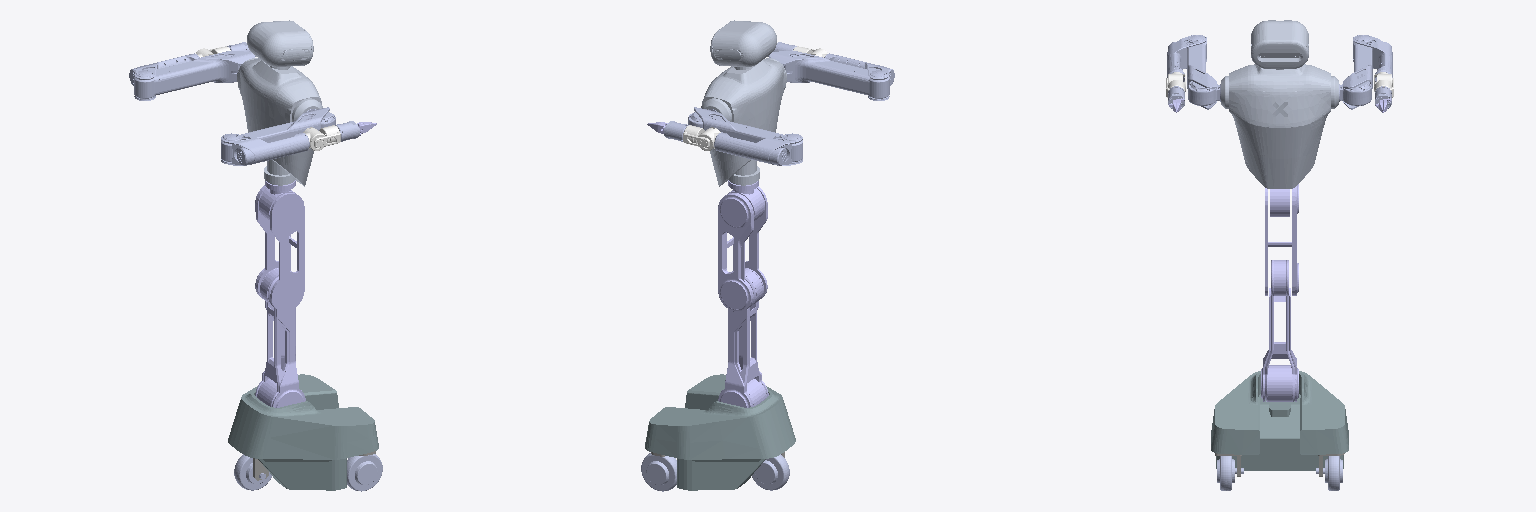
--- What the picture shows (computed from the rendered views, not written in the file) ---
Views: 3 orthographic renders of the robot side by side, from view 1: azimuth 30°, elevation 25°; view 2: azimuth 150°, elevation 25°; view 3: azimuth 270°, elevation 25°.
Robot: mobiman/urdf/R1 — 27 links, 26 joints (19 revolute, 3 continuous, 4 prismatic); root link base_link; default pose: every joint at zero.
Visible links, largest first — view 1: base_link, torso_link4, torso_link2, torso_link1, left_arm_link2, right_arm_link3, right_arm_link2, wheel_link2, wheel_link3, left_arm_link3, torso_link3; view 2: base_link, torso_link4, torso_link2, torso_link1, right_arm_link2, left_arm_link3, left_arm_link2, wheel_link1, wheel_link3, right_arm_link3, torso_link3; view 3: torso_link4, base_link, torso_link1, torso_link2, right_arm_link2, left_arm_link2, right_arm_link3, left_arm_link3, left_arm_link1, right_arm_link1, wheel_link1, wheel_link2 (+1 smaller).
Link boxes in pixels (x1,y1,x2,y2): base_link: (228,374,378,490); torso_link4: (237,20,322,186); torso_link2: (255,185,304,311); torso_link1: (255,268,305,407); left_arm_link2: (134,51,255,98); right_arm_link3: (221,132,309,165); right_arm_link2: (221,107,329,161); wheel_link2: (347,454,382,491); wheel_link3: (234,454,271,490); left_arm_link3: (129,53,199,100); torso_link3: (259,180,295,220); base_link: (645,374,795,490); torso_link4: (701,20,786,186); torso_link2: (718,186,767,311); torso_link1: (718,268,768,407); right_arm_link2: (768,51,889,98); left_arm_link3: (714,132,802,165); left_arm_link2: (694,107,802,161); wheel_link1: (641,453,676,491); wheel_link3: (752,454,789,490); right_arm_link3: (824,53,894,100); torso_link3: (728,180,764,220); torso_link4: (1221,20,1338,188); base_link: (1211,371,1348,470); torso_link1: (1261,260,1298,401); torso_link2: (1265,184,1298,295); right_arm_link2: (1187,41,1216,109); left_arm_link2: (1343,41,1372,109); right_arm_link3: (1167,35,1206,81); left_arm_link3: (1353,35,1392,81); left_arm_link1: (1339,82,1371,106); right_arm_link1: (1188,82,1220,105); wheel_link1: (1316,456,1342,490); wheel_link2: (1217,456,1243,490).
Size in the robot's own frame: 0.6614 by 0.7839 by 1.66 metres.
27 mesh visuals loaded from 27 distinct referenced files (27 binary STL).

robot.urdf — mobiman/urdf/R1:
<?xml version="1.0" encoding="utf-8"?>
<!-- This URDF was automatically created by SolidWorks to URDF Exporter! Originally created by Stephen Brawner ([email redacted]) 
     Commit Version: 1.6.0-4-g7f85cfe  Build Version: 1.6.7995.38578
     For more information, please see http://wiki.ros.org/sw_urdf_exporter -->
<robot
  name="mobiman/urdf/R1">
  <link
    name="base_link">
    <inertial>
      <origin
        xyz="0.00067851 4.1152E-07 0.12993"
        rpy="0 0 0" />
      <mass
        value="28.1" />
      <inertia
        ixx="0.41116"
        ixy="6.0087E-08"
        ixz="0.00057578"
        iyy="0.27395"
        iyz="-7.2731E-08"
        izz="0.50093" />
    </inertial>
    <visual>
      <origin
        xyz="0 0 0"
        rpy="0 0 0" />
      <geometry>
        <mesh
          filename="package://mobiman/urdf/R1/meshes/base_link.STL" />
      </geometry>
      <material
        name="">
        <color
          rgba="0.59608 0.66667 0.68627 1" />
      </material>
    </visual>
    <collision>
      <origin
        xyz="0 0 0"
        rpy="0 0 0" />
      <geometry>
        <mesh
          filename="package://mobiman/urdf/R1/meshes/base_link.STL" />
      </geometry>
    </collision>
  </link>
  <link
    name="servo_link1">
    <inertial>
      <origin
        xyz="-0.00031065 -0.022512 -0.030846"
        rpy="0 0 0" />
      <mass
        value="1" />
      <inertia
        ixx="0.00022554"
        ixy="2.4928E-06"
        ixz="8.1645E-07"
        iyy="0.00016547"
        iyz="-6.6947E-05"
        izz="0.00014555" />
    </inertial>
    <visual>
      <origin
        xyz="0 0 0"
        rpy="0 0 0" />
      <geometry>
        <mesh
          filename="package://mobiman/urdf/R1/meshes/servo_link1.STL" />
      </geometry>
      <material
        name="">
        <color
          rgba="0.69412 0.69412 0.69412 1" />
      </material>
    </visual>
    <collision>
      <origin
        xyz="0 0 0"
        rpy="0 0 0" />
      <geometry>
        <mesh
          filename="package://mobiman/urdf/R1/meshes/servo_link1.STL" />
      </geometry>
    </collision>
  </link>
  <joint
    name="servo_axis1"
    type="revolute">
    <origin
      xyz="0.15169 0.185 0.121"
      rpy="0 0 0" />
    <parent
      link="base_link" />
    <child
      link="servo_link1" />
    <axis
      xyz="0 0 1" />
    <limit
      lower="-1.6581"
      upper="1.6581"
      effort="44"
      velocity="3.1416" />
  </joint>
  <link
    name="wheel_link1">
    <inertial>
      <origin
        xyz="6.5501E-08 4.1927E-07 -0.032644"
        rpy="0 0 0" />
      <mass
        value="2.2" />
      <inertia
        ixx="0.0008746"
        ixy="-5.1589E-11"
        ixz="-6.3041E-10"
        iyy="0.00087462"
        iyz="5.5928E-10"
        izz="0.0014051" />
    </inertial>
    <visual>
      <origin
        xyz="0 0 0"
        rpy="0 0 0" />
      <geometry>
        <mesh
          filename="package://mobiman/urdf/R1/meshes/wheel_link1.STL" />
      </geometry>
      <material
        name="">
        <color
          rgba="0.79216 0.81961 0.93333 1" />
      </material>
    </visual>
    <collision>
      <origin
        xyz="0 0 0"
        rpy="0 0 0" />
      <geometry>
        <mesh
          filename="package://mobiman/urdf/R1/meshes/wheel_link1.STL" />
      </geometry>
    </collision>
  </link>
  <joint
    name="wheel_axis1"
    type="continuous">
    <origin
      xyz="0 0.032 -0.0905"
      rpy="-1.5708 0 0" />
    <parent
      link="servo_link1" />
    <child
      link="wheel_link1" />
    <axis
      xyz="0 0 1" />
  </joint>
  <link
    name="servo_link2">
    <inertial>
      <origin
        xyz="0.00031065 0.022512 -0.030846"
        rpy="0 0 0" />
      <mass
        value="1" />
      <inertia
        ixx="0.00022554"
        ixy="2.4928E-06"
        ixz="-8.1645E-07"
        iyy="0.00016547"
        iyz="6.6947E-05"
        izz="0.00014555" />
    </inertial>
    <visual>
      <origin
        xyz="0 0 0"
        rpy="0 0 0" />
      <geometry>
        <mesh
          filename="package://mobiman/urdf/R1/meshes/servo_link2.STL" />
      </geometry>
      <material
        name="">
        <color
          rgba="0.69412 0.69412 0.69412 1" />
      </material>
    </visual>
    <collision>
      <origin
        xyz="0 0 0"
        rpy="0 0 0" />
      <geometry>
        <mesh
          filename="package://mobiman/urdf/R1/meshes/servo_link2.STL" />
      </geometry>
    </collision>
  </link>
  <joint
    name="servo_axis2"
    type="revolute">
    <origin
      xyz="0.15169 -0.185 0.121"
      rpy="0 0 0" />
    <parent
      link="base_link" />
    <child
      link="servo_link2" />
    <axis
      xyz="0 0 1" />
    <limit
      lower="-1.6581"
      upper="1.6581"
      effort="44"
      velocity="3.1416" />
  </joint>
  <link
    name="wheel_link2">
    <inertial>
      <origin
        xyz="-6.5501E-08 4.1927E-07 0.032644"
        rpy="0 0 0" />
      <mass
        value="2.2" />
      <inertia
        ixx="0.0008746"
        ixy="5.1589E-11"
        ixz="-6.3041E-10"
        iyy="0.00087462"
        iyz="-5.5928E-10"
        izz="0.0014051" />
    </inertial>
    <visual>
      <origin
        xyz="0 0 0"
        rpy="0 0 0" />
      <geometry>
        <mesh
          filename="package://mobiman/urdf/R1/meshes/wheel_link2.STL" />
      </geometry>
      <material
        name="">
        <color
          rgba="0.79216 0.81961 0.93333 1" />
      </material>
    </visual>
    <collision>
      <origin
        xyz="0 0 0"
        rpy="0 0 0" />
      <geometry>
        <mesh
          filename="package://mobiman/urdf/R1/meshes/wheel_link2.STL" />
      </geometry>
    </collision>
  </link>
  <joint
    name="wheel_axis2"
    type="continuous">
    <origin
      xyz="0 -0.032 -0.0905"
      rpy="-1.5708 0 0" />
    <parent
      link="servo_link2" />
    <child
      link="wheel_link2" />
    <axis
      xyz="0 0 1" />
  </joint>
  <link
    name="servo_link3">
    <inertial>
      <origin
        xyz="-0.00031065 -0.022512 -0.030846"
        rpy="0 0 0" />
      <mass
        value="1" />
      <inertia
        ixx="0.00022554"
        ixy="2.4928E-06"
        ixz="8.1645E-07"
        iyy="0.00016547"
        iyz="-6.6947E-05"
        izz="0.00014555" />
    </inertial>
    <visual>
      <origin
        xyz="0 0 0"
        rpy="0 0 0" />
      <geometry>
        <mesh
          filename="package://mobiman/urdf/R1/meshes/servo_link3.STL" />
      </geometry>
      <material
        name="">
        <color
          rgba="0.69412 0.69412 0.69412 1" />
      </material>
    </visual>
    <collision>
      <origin
        xyz="0 0 0"
        rpy="0 0 0" />
      <geometry>
        <mesh
          filename="package://mobiman/urdf/R1/meshes/servo_link3.STL" />
      </geometry>
    </collision>
  </link>
  <joint
    name="servo_axis3"
    type="revolute">
    <origin
      xyz="-0.15431 0 0.121"
      rpy="0 0 0" />
    <parent
      link="base_link" />
    <child
      link="servo_link3" />
    <axis
      xyz="0 0 1" />
    <limit
      lower="-1.6581"
      upper="1.6581"
      effort="44"
      velocity="3.1416" />
  </joint>
  <link
    name="wheel_link3">
    <inertial>
      <origin
        xyz="6.5501E-08 4.1927E-07 -0.032644"
        rpy="0 0 0" />
      <mass
        value="2.2" />
      <inertia
        ixx="0.0008746"
        ixy="-5.1589E-11"
        ixz="-6.3041E-10"
        iyy="0.00087462"
        iyz="5.5928E-10"
        izz="0.0014051" />
    </inertial>
    <visual>
      <origin
        xyz="0 0 0"
        rpy="0 0 0" />
      <geometry>
        <mesh
          filename="package://mobiman/urdf/R1/meshes/wheel_link3.STL" />
      </geometry>
      <material
        name="">
        <color
          rgba="0.79216 0.81961 0.93333 1" />
      </material>
    </visual>
    <collision>
      <origin
        xyz="0 0 0"
        rpy="0 0 0" />
      <geometry>
        <mesh
          filename="package://mobiman/urdf/R1/meshes/wheel_link3.STL" />
      </geometry>
    </collision>
  </link>
  <joint
    name="wheel_axis3"
    type="continuous">
    <origin
      xyz="0 0.032 -0.0905"
      rpy="-1.5708 0 0" />
    <parent
      link="servo_link3" />
    <child
      link="wheel_link3" />
    <axis
      xyz="0 0 1" />
  </joint>
  <link
    name="torso_link1">
    <inertial>
      <origin
        xyz="-4.6645E-05 -0.086098 -0.064"
        rpy="0 0 0" />
      <mass
        value="4.286" />
      <inertia
        ixx="0.030007"
        ixy="0.00026616"
        ixz="2.1339E-08"
        iyy="0.0035268"
        iyz="-2.2166E-08"
        izz="0.030358" />
    </inertial>
    <visual>
      <origin
        xyz="0 0 0"
        rpy="0 0 0" />
      <geometry>
        <mesh
          filename="package://mobiman/urdf/R1/meshes/torso_link1.STL" />
      </geometry>
      <material
        name="">
        <color
          rgba="0.82353 0.82353 1 1" />
      </material>
    </visual>
    <collision>
      <origin
        xyz="0 0 0"
        rpy="0 0 0" />
      <geometry>
        <mesh
          filename="package://mobiman/urdf/R1/meshes/torso_link1.STL" />
      </geometry>
    </collision>
  </link>
  <joint
    name="torso_joint1"
    type="revolute">
    <origin
      xyz="-0.05431 0.064001 0.26686"
      rpy="-1.5708 0 0" />
    <parent
      link="base_link" />
    <child
      link="torso_link1" />
    <axis
      xyz="0 0 1" />
    <limit
      lower="-1.0472"
      upper="2.1817"
      effort="100"
      velocity="2.0944" />
  </joint>
  <link
    name="torso_link2">
    <inertial>
      <origin
        xyz="0.0041875 -0.14057 -0.046768"
        rpy="0 0 0" />
      <mass
        value="5.153" />
      <inertia
        ixx="0.020253"
        ixy="-0.00016018"
        ixz="1.968E-06"
        iyy="0.001483"
        iyz="-1.5818E-06"
        izz="0.021666" />
    </inertial>
    <visual>
      <origin
        xyz="0 0 0"
        rpy="0 0 0" />
      <geometry>
        <mesh
          filename="package://mobiman/urdf/R1/meshes/torso_link2.STL" />
      </geometry>
      <material
        name="">
        <color
          rgba="0.82353 0.82353 1 1" />
      </material>
    </visual>
    <collision>
      <origin
        xyz="0 0 0"
        rpy="0 0 0" />
      <geometry>
        <mesh
          filename="package://mobiman/urdf/R1/meshes/torso_link2.STL" />
      </geometry>
    </collision>
  </link>
  <joint
    name="torso_joint2"
    type="revolute">
    <origin
      xyz="0 -0.40014 0"
      rpy="0 0 0" />
    <parent
      link="torso_link1" />
    <child
      link="torso_link2" />
    <axis
      xyz="0 0 1" />
    <limit
      lower="-2.618"
      upper="1.9199"
      effort="100"
      velocity="2.0944" />
  </joint>
  <link
    name="torso_link3">
    <inertial>
      <origin
        xyz="-2.0681E-07 0.015762 0.064"
        rpy="0 0 0" />
      <mass
        value="6.533" />
      <inertia
        ixx="0.0024012"
        ixy="1.7123E-08"
        ixz="-1.3876E-09"
        iyy="0.0014135"
        iyz="-7.5331E-09"
        izz="0.0028934" />
    </inertial>
    <visual>
      <origin
        xyz="0 0 0"
        rpy="0 0 0" />
      <geometry>
        <mesh
          filename="package://mobiman/urdf/R1/meshes/torso_link3.STL" />
      </geometry>
      <material
        name="">
        <color
          rgba="0.82353 0.82353 1 1" />
      </material>
    </visual>
    <collision>
      <origin
        xyz="0 0 0"
        rpy="0 0 0" />
      <geometry>
        <mesh
          filename="package://mobiman/urdf/R1/meshes/torso_link3.STL" />
      </geometry>
    </collision>
  </link>
  <joint
    name="torso_joint3"
    type="revolute">
    <origin
      xyz="0 -0.3 0"
      rpy="3.1416 0 0" />
    <parent
      link="torso_link2" />
    <child
      link="torso_link3" />
    <axis
      xyz="0 0 1" />
    <limit
      lower="-1.5708"
      upper="1.5708"
      effort="100"
      velocity="2.0944" />
  </joint>
  <link
    name="torso_link4">
    <inertial>
      <origin
        xyz="-0.0026333 -1.4443E-07 0.38669"
        rpy="0 0 0" />
      <mass
        value="16.778" />
      <inertia
        ixx="0.015271"
        ixy="4.4444E-08"
        ixz="0.00054617"
        iyy="0.013562"
        iyz="-2.0233E-07"
        izz="0.017441" />
    </inertial>
    <visual>
      <origin
        xyz="0 0 0"
        rpy="0 0 0" />
      <geometry>
        <mesh
          filename="package://mobiman/urdf/R1/meshes/torso_link4.STL" />
      </geometry>
      <material
        name="">
        <color
          rgba="0.81176 0.84314 0.9098 1" />
      </material>
    </visual>
    <collision>
      <origin
        xyz="0 0 0"
        rpy="0 0 0" />
      <geometry>
        <mesh
          filename="package://mobiman/urdf/R1/meshes/torso_link4.STL" />
      </geometry>
    </collision>
  </link>
  <joint
    name="torso_joint4"
    type="revolute">
    <origin
      xyz="0 0.0935 0.064"
      rpy="-1.5708 0 0" />
    <parent
      link="torso_link3" />
    <child
      link="torso_link4" />
    <axis
      xyz="0 0 1" />
    <limit
      lower="-2.9671"
      upper="2.9671"
      effort="100"
      velocity="2.0944" />
  </joint>
  <link
    name="left_arm_link1">
    <inertial>
      <origin
        xyz="0.025904 0.089421 0.19171"
        rpy="0 0 0" />
      <mass
        value="1.319" />
      <inertia
        ixx="0.00058101"
        ixy="7.5672E-09"
        ixz="2.9207E-08"
        iyy="0.00070857"
        iyz="8.5639E-07"
        izz="0.00044583" />
    </inertial>
    <visual>
      <origin
        xyz="0 0 0"
        rpy="0 0 0" />
      <geometry>
        <mesh
          filename="package://mobiman/urdf/R1/meshes/left_arm_link1.STL" />
      </geometry>
      <material
        name="">
        <color
          rgba="0.79216 0.81961 0.93333 1" />
      </material>
    </visual>
    <collision>
      <origin
        xyz="0 0 0"
        rpy="0 0 0" />
      <geometry>
        <mesh
          filename="package://mobiman/urdf/R1/meshes/left_arm_link1.STL" />
      </geometry>
    </collision>
  </link>
  <joint
    name="left_arm_joint1"
    type="revolute">
    <origin
      xyz="-0.00084297 0.1922 0.30847"
      rpy="-1.5708 0 0" />
    <parent
      link="torso_link4" />
    <child
      link="left_arm_link1" />
    <axis
      xyz="0 0 1" />
    <limit
      lower="-2.8798"
      upper="2.8798"
      effort="40"
      velocity="20.944" />
  </joint>
  <link
    name="left_arm_link2">
    <inertial>
      <origin
        xyz="-0.23622 -0.016347 -0.029968"
        rpy="0 0 0" />
      <mass
        value="1.3" />
      <inertia
        ixx="0.0075712"
        ixy="0.0"
        ixz="0.00"
        iyy="0.00075936"
        iyz="0.00"
        izz="0.0075712" />
    </inertial>
    <visual>
      <origin
        xyz="0 0 0"
        rpy="0 0 0" />
      <geometry>
        <mesh
          filename="package://mobiman/urdf/R1/meshes/left_arm_link2.STL" />
      </geometry>
      <material
        name="">
        <color
          rgba="0.79216 0.81961 0.93333 1" />
      </material>
    </visual>
    <collision>
      <origin
        xyz="0 0 0"
        rpy="0 0 0" />
      <geometry>
        <mesh
          filename="package://mobiman/urdf/R1/meshes/left_arm_link2.STL" />
      </geometry>
    </collision>
  </link>
  <joint
    name="left_arm_joint2"
    type="revolute">
    <origin
      xyz="0 0.0301 0.073007"
      rpy="-1.5708 0 0" />
    <parent
      link="left_arm_link1" />
    <child
      link="left_arm_link2" />
    <axis
      xyz="0 0 1" />
    <limit
      lower="0"
      upper="3.2289"
      effort="40"
      velocity="20.944" />
  </joint>
  <link
    name="left_arm_link3">
    <inertial>
      <origin
        xyz="0.04533 -0.054435 -0.044131"
        rpy="0 0 0" />
      <mass
        value="0.818" />
      <inertia
        ixx="0.00059585"
        ixy="0.00022591"
        ixz="7.1565E-06"
        iyy="0.0013908"
        iyz="9.6987E-06"
        izz="0.0014968" />
    </inertial>
    <visual>
      <origin
        xyz="0 0 0"
        rpy="0 0 0" />
      <geometry>
        <mesh
          filename="package://mobiman/urdf/R1/meshes/left_arm_link3.STL" />
      </geometry>
      <material
        name="">
        <color
          rgba="0.79216 0.81961 0.93333 1" />
      </material>
    </visual>
    <collision>
      <origin
        xyz="0 0 0"
        rpy="0 0 0" />
      <geometry>
        <mesh
          filename="package://mobiman/urdf/R1/meshes/left_arm_link3.STL" />
      </geometry>
    </collision>
  </link>
  <joint
    name="left_arm_joint3"
    type="revolute">
    <origin
      xyz="-0.34928 -0.019995 0.0145"
      rpy="0 0 0" />
    <parent
      link="left_arm_link2" />
    <child
      link="left_arm_link3" />
    <axis
      xyz="0 0 1" />
    <limit
      lower="-3.3161"
      upper="0"
      effort="27"
      velocity="7.5398" />
  </joint>
  <link
    name="left_arm_link4">
    <inertial>
      <origin
        xyz="8.1251E-07 -0.0021447 0.27415"
        rpy="0 0 0" />
      <mass
        value="0.816" />
      <inertia
        ixx="9.7044E-05"
        ixy="-5.3628E-09"
        ixz="-2.2365E-09"
        iyy="0.00010174"
        iyz="8.2619E-07"
        izz="8.45E-05" />
    </inertial>
    <visual>
      <origin
        xyz="0 0 0"
        rpy="0 0 0" />
      <geometry>
        <mesh
          filename="package://mobiman/urdf/R1/meshes/left_arm_link4.STL" />
      </geometry>
      <material
        name="">
        <color
          rgba="1 1 1 1" />
      </material>
    </visual>
    <collision>
      <origin
        xyz="0 0 0"
        rpy="0 0 0" />
      <geometry>
        <mesh
          filename="package://mobiman/urdf/R1/meshes/left_arm_link4.STL" />
      </geometry>
    </collision>
  </link>
  <joint
    name="left_arm_joint4"
    type="revolute">
    <origin
      xyz="-0.0039497 -0.07 -0.0446"
      rpy="0 1.5708 0" />
    <parent
      link="left_arm_link3" />
    <child
      link="left_arm_link4" />
    <axis
      xyz="0 0 1" />
    <limit
      lower="-2.8798"
      upper="2.8798"
      effort="7"
      velocity="25.133" />
  </joint>
  <link
    name="left_arm_link5">
    <inertial>
      <origin
        xyz="0.054309 -3.9656E-06 -0.021819"
        rpy="0 0 0" />
      <mass
        value="0.801" />
      <inertia
        ixx="8.4E-05"
        ixy="-7.4183E-08"
        ixz="1.6234E-05"
        iyy="0.00011333"
        iyz="1.3843E-08"
        izz="9.8498E-05" />
    </inertial>
    <visual>
      <origin
        xyz="0 0 0"
        rpy="0 0 0" />
      <geometry>
        <mesh
          filename="package://mobiman/urdf/R1/meshes/left_arm_link5.STL" />
      </geometry>
      <material
        name="">
        <color
          rgba="1 1 1 1" />
      </material>
    </visual>
    <collision>
      <origin
        xyz="0 0 0"
        rpy="0 0 0" />
      <geometry>
        <mesh
          filename="package://mobiman/urdf/R1/meshes/left_arm_link5.STL" />
      </geometry>
    </collision>
  </link>
  <joint
    name="left_arm_joint5"
    type="revolute">
    <origin
      xyz="0 -0.025267 0.2776"
      rpy="-3.1416 -1.5708 -1.5708" />
    <parent
      link="left_arm_link4" />
    <child
      link="left_arm_link5" />
    <axis
      xyz="0 0 1" />
    <limit
      lower="-1.6581"
      upper="1.6581"
      effort="7"
      velocity="25.133" />
  </joint>
  <link
    name="left_arm_link6">
    <inertial>
      <origin
        xyz="-2.6573E-06 1.5938E-07 0.034797"
        rpy="0 0 0" />
      <mass
        value="0.465" />
      <inertia
        ixx="0.00010064"
        ixy="-1.5266E-10"
        ixz="-1.3825E-08"
        iyy="9.8681E-05"
        iyz="6.9609E-10"
        izz="7.0128E-05" />
    </inertial>
    <visual>
      <origin
        xyz="0 0 0"
        rpy="0 0 0" />
      <geometry>
        <mesh
          filename="package://mobiman/urdf/R1/meshes/left_arm_link6.STL" />
      </geometry>
      <material
        name="">
        <color
          rgba="0.79216 0.81961 0.93333 1" />
      </material>
    </visual>
    <collision>
      <origin
        xyz="0 0 0"
        rpy="0 0 0" />
      <geometry>
        <mesh
          filename="package://mobiman/urdf/R1/meshes/left_arm_link6.STL" />
      </geometry>
    </collision>
  </link>
  <joint
    name="left_arm_joint6"
    type="revolute">
    <origin
      xyz="0.081499 0 -0.0255"
      rpy="-1.5708 0 -1.5708" />
    <parent
      link="left_arm_link5" />
    <child
      link="left_arm_link6" />
    <axis
      xyz="0 0 1" />
    <limit
      lower="-2.8798"
      upper="2.8798"
      effort="7"
      velocity="25.133" />
  </joint>
  <link
    name="left_gripper_link1">
    <inertial>
      <origin
        xyz="-0.024519 0.0013197 -0.0048265"
        rpy="0 0 0" />
      <mass
        value="0.057" />
      <inertia
        ixx="1.7538E-06"
        ixy="1.1806E-07"
        ixz="2.4211E-07"
        iyy="4.5917E-06"
        iyz="1.1801E-07"
        izz="5.1262E-06" />
    </inertial>
    <visual>
      <origin
        xyz="0 0 0"
        rpy="0 0 0" />
      <geometry>
        <mesh
          filename="package://mobiman/urdf/R1/meshes/left_gripper_link1.STL" />
      </geometry>
      <material
        name="">
        <color
          rgba="0.82353 0.82353 1 1" />
      </material>
    </visual>
    <collision>
      <origin
        xyz="0 0 0"
        rpy="0 0 0" />
      <geometry>
        <mesh
          filename="package://mobiman/urdf/R1/meshes/left_gripper_link1.STL" />
      </geometry>
    </collision>
  </link>
  <joint
    name="left_gripper_axis1"
    type="prismatic">
    <origin
      xyz="0 -0.0086403 0.12642"
      rpy="1.5708 -1.5708 0" />
    <parent
      link="left_arm_link6" />
    <child
      link="left_gripper_link1" />
    <axis
      xyz="0 0 1" />
    <limit
      lower="0"
      upper="0.03"
      effort="100"
      velocity="0.25" />
  </joint>
  <link
    name="left_gripper_link2">
    <inertial>
      <origin
        xyz="-0.02434 0.0018486 -0.0048904"
        rpy="0 0 0" />
      <mass
        value="0.057" />
      <inertia
        ixx="1.7319E-06"
        ixy="2.0993E-07"
        ixz="2.2615E-07"
        iyy="4.4865E-06"
        iyz="1.0434E-07"
        izz="5.0068E-06" />
    </inertial>
    <visual>
      <origin
        xyz="0 0 0"
        rpy="0 0 0" />
      <geometry>
        <mesh
          filename="package://mobiman/urdf/R1/meshes/left_gripper_link2.STL" />
      </geometry>
      <material
        name="">
        <color
          rgba="0.82353 0.82353 1 1" />
      </material>
    </visual>
    <collision>
      <origin
        xyz="0 0 0"
        rpy="0 0 0" />
      <geometry>
        <mesh
          filename="package://mobiman/urdf/R1/meshes/left_gripper_link2.STL" />
      </geometry>
    </collision>
  </link>
  <joint
    name="left_gripper_axis2"
    type="prismatic">
    <origin
      xyz="-0.00076771 0.0086403 0.12641"
      rpy="1.5708 -1.5708 3.1416" />
    <parent
      link="left_arm_link6" />
    <child
      link="left_gripper_link2" />
    <axis
      xyz="0 0 1" />
    <limit
      lower="0"
      upper="0.03"
      effort="100"
      velocity="0.25" />
  </joint>
  <link
    name="right_arm_link1">
    <inertial>
      <origin
        xyz="0.025904 0.089421 0.19171"
        rpy="0 0 0" />
      <mass
        value="1.319" />
      <inertia
        ixx="0.00058101"
        ixy="-7.5672E-09"
        ixz="-2.9207E-08"
        iyy="0.00070857"
        iyz="8.5639E-07"
        izz="0.00044583" />
    </inertial>
    <visual>
      <origin
        xyz="0 0 0"
        rpy="0 0 0" />
      <geometry>
        <mesh
          filename="package://mobiman/urdf/R1/meshes/right_arm_link1.STL" />
      </geometry>
      <material
        name="">
        <color
          rgba="0.79216 0.81961 0.93333 1" />
      </material>
    </visual>
    <collision>
      <origin
        xyz="0 0 0"
        rpy="0 0 0" />
      <geometry>
        <mesh
          filename="package://mobiman/urdf/R1/meshes/right_arm_link1.STL" />
      </geometry>
    </collision>
  </link>
  <joint
    name="right_arm_joint1"
    type="revolute">
    <origin
      xyz="-0.00084297 -0.1922 0.30847"
      rpy="1.5708 0 0" />
    <parent
      link="torso_link4" />
    <child
      link="right_arm_link1" />
    <axis
      xyz="0 0 1" />
    <limit
      lower="-2.8798"
      upper="2.8798"
      effort="40"
      velocity="20.944" />
  </joint>
  <link
    name="right_arm_link2">
    <inertial>
      <origin
        xyz="-0.23622 -0.016347 -0.029968"
        rpy="0 0 0" />
      <mass
        value="1.3" />
      <inertia
        ixx="0.00060639"
        ixy="-0.00041823"
        ixz="-0.00014957"
        iyy="0.0075936"
        iyz="-8.0938E-06"
        izz="0.0075712" />
    </inertial>
    <visual>
      <origin
        xyz="0 0 0"
        rpy="0 0 0" />
      <geometry>
        <mesh
          filename="package://mobiman/urdf/R1/meshes/right_arm_link2.STL" />
      </geometry>
      <material
        name="">
        <color
          rgba="0.79216 0.81961 0.93333 1" />
      </material>
    </visual>
    <collision>
      <origin
        xyz="0 0 0"
        rpy="0 0 0" />
      <geometry>
        <mesh
          filename="package://mobiman/urdf/R1/meshes/right_arm_link2.STL" />
      </geometry>
    </collision>
  </link>
  <joint
    name="right_arm_joint2"
    type="revolute">
    <origin
      xyz="0 0.0301 0.073007"
      rpy="-1.5708 0 0" />
    <parent
      link="right_arm_link1" />
    <child
      link="right_arm_link2" />
    <axis
      xyz="0 0 1" />
    <limit
      lower="0"
      upper="3.2289"
      effort="40"
      velocity="20.944" />
  </joint>
  <link
    name="right_arm_link3">
    <inertial>
      <origin
        xyz="0.04533 -0.054435 -0.044131"
        rpy="0 0 0" />
      <mass
        value="0.818" />
      <inertia
        ixx="0.00059585"
        ixy="0.00022591"
        ixz="7.1567E-06"
        iyy="0.0013908"
        iyz="-9.6986E-06"
        izz="0.0014968" />
    </inertial>
    <visual>
      <origin
        xyz="0 0 0"
        rpy="0 0 0" />
      <geometry>
        <mesh
          filename="package://mobiman/urdf/R1/meshes/right_arm_link3.STL" />
      </geometry>
      <material
        name="">
        <color
          rgba="0.79216 0.81961 0.93333 1" />
      </material>
    </visual>
    <collision>
      <origin
        xyz="0 0 0"
        rpy="0 0 0" />
      <geometry>
        <mesh
          filename="package://mobiman/urdf/R1/meshes/right_arm_link3.STL" />
      </geometry>
    </collision>
  </link>
  <joint
    name="right_arm_joint3"
    type="revolute">
    <origin
      xyz="-0.34928 -0.019995 0.0145"
      rpy="0 0 0" />
    <parent
      link="right_arm_link2" />
    <child
      link="right_arm_link3" />
    <axis
      xyz="0 0 1" />
    <limit
      lower="-3.3161"
      upper="0"
      effort="27"
      velocity="7.5398" />
  </joint>
  <link
    name="right_arm_link4">
    <inertial>
      <origin
        xyz="-8.1251E-07 0.0021447 0.27415"
        rpy="0 0 0" />
      <mass
        value="0.816" />
      <inertia
        ixx="9.7044E-05"
        ixy="-5.3628E-09"
        ixz="2.2365E-09"
        iyy="0.00010174"
        iyz="-8.2619E-07"
        izz="8.45E-05" />
    </inertial>
    <visual>
      <origin
        xyz="0 0 0"
        rpy="0 0 0" />
      <geometry>
        <mesh
          filename="package://mobiman/urdf/R1/meshes/right_arm_link4.STL" />
      </geometry>
      <material
        name="">
        <color
          rgba="1 1 1 1" />
      </material>
    </visual>
    <collision>
      <origin
        xyz="0 0 0"
        rpy="0 0 0" />
      <geometry>
        <mesh
          filename="package://mobiman/urdf/R1/meshes/right_arm_link4.STL" />
      </geometry>
    </collision>
  </link>
  <joint
    name="right_arm_joint4"
    type="revolute">
    <origin
      xyz="-0.0039497 -0.07 -0.0446"
      rpy="1.5708 -1.5708 1.5708" />
    <parent
      link="right_arm_link3" />
    <child
      link="right_arm_link4" />
    <axis
      xyz="0 0 1" />
    <limit
      lower="-2.8798"
      upper="2.8798"
      effort="7"
      velocity="25.133" />
  </joint>
  <link
    name="right_arm_link5">
    <inertial>
      <origin
        xyz="0.054309 -3.9656E-06 -0.021819"
        rpy="0 0 0" />
      <mass
        value="0.801" />
      <inertia
        ixx="8.4E-05"
        ixy="-7.4183E-08"
        ixz="1.6234E-05"
        iyy="0.00011333"
        iyz="1.3843E-08"
        izz="9.8498E-05" />
    </inertial>
    <visual>
      <origin
        xyz="0 0 0"
        rpy="0 0 0" />
      <geometry>
        <mesh
          filename="package://mobiman/urdf/R1/meshes/right_arm_link5.STL" />
      </geometry>
      <material
        name="">
        <color
          rgba="1 1 1 1" />
      </material>
    </visual>
    <collision>
      <origin
        xyz="0 0 0"
        rpy="0 0 0" />
      <geometry>
        <mesh
          filename="package://mobiman/urdf/R1/meshes/right_arm_link5.STL" />
      </geometry>
    </collision>
  </link>
  <joint
    name="right_arm_joint5"
    type="revolute">
    <origin
      xyz="0 0.025267 0.2776"
      rpy="3.1416 -1.5708 1.5708" />
    <parent
      link="right_arm_link4" />
    <child
      link="right_arm_link5" />
    <axis
      xyz="0 0 1" />
    <limit
      lower="-1.6581"
      upper="1.6581"
      effort="7"
      velocity="25.133" />
  </joint>
  <link
    name="right_arm_link6">
    <inertial>
      <origin
        xyz="2.5842E-06 -8.3168E-08 0.034797"
        rpy="0 0 0" />
      <mass
        value="0.465" />
      <inertia
        ixx="0.00010064"
        ixy="-1.6381E-10"
        ixz="1.3876E-08"
        iyy="9.8681E-05"
        iyz="-7.3374E-10"
        izz="7.0128E-05" />
    </inertial>
    <visual>
      <origin
        xyz="0 0 0"
        rpy="0 0 0" />
      <geometry>
        <mesh
          filename="package://mobiman/urdf/R1/meshes/right_arm_link6.STL" />
      </geometry>
      <material
        name="">
        <color
          rgba="0.79216 0.81961 0.93333 1" />
      </material>
    </visual>
    <collision>
      <origin
        xyz="0 0 0"
        rpy="0 0 0" />
      <geometry>
        <mesh
          filename="package://mobiman/urdf/R1/meshes/right_arm_link6.STL" />
      </geometry>
    </collision>
  </link>
  <joint
    name="right_arm_joint6"
    type="revolute">
    <origin
      xyz="0.081499 0 -0.0255"
      rpy="1.5708 0 1.5708" />
    <parent
      link="right_arm_link5" />
    <child
      link="right_arm_link6" />
    <axis
      xyz="0 0 1" />
    <limit
      lower="-2.8798"
      upper="2.8798"
      effort="7"
      velocity="25.133" />
  </joint>
  <link
    name="right_gripper_link1">
    <inertial>
      <origin
        xyz="-0.024364 0.0014241 -0.0048851"
        rpy="0 0 0" />
      <mass
        value="0.057" />
      <inertia
        ixx="1.7312E-06"
        ixy="1.5869E-07"
        ixz="2.2744E-07"
        iyy="4.5003E-06"
        iyz="1.1134E-07"
        izz="5.019E-06" />
    </inertial>
    <visual>
      <origin
        xyz="0 0 0"
        rpy="0 0 0" />
      <geometry>
        <mesh
          filename="package://mobiman/urdf/R1/meshes/right_gripper_link1.STL" />
      </geometry>
      <material
        name="">
        <color
          rgba="0.82353 0.82353 1 1" />
      </material>
    </visual>
    <collision>
      <origin
        xyz="0 0 0"
        rpy="0 0 0" />
      <geometry>
        <mesh
          filename="package://mobiman/urdf/R1/meshes/right_gripper_link1.STL" />
      </geometry>
    </collision>
  </link>
  <joint
    name="right_gripper_axis1"
    type="prismatic">
    <origin
      xyz="0 0.0086405 0.12642"
      rpy="2.3562 -1.5708 2.3562" />
    <parent
      link="right_arm_link6" />
    <child
      link="right_gripper_link1" />
    <axis
      xyz="0 0 1" />
    <limit
      lower="0"
      upper="0.03"
      effort="100"
      velocity="0.25" />
  </joint>
  <link
    name="right_gripper_link2">
    <inertial>
      <origin
        xyz="-0.024307 0.0018804 -0.0048959"
        rpy="0 0 0" />
      <mass
        value="0.057" />
      <inertia
        ixx="1.7246E-06"
        ixy="2.2124E-07"
        ixz="2.2686E-07"
        iyy="4.469E-06"
        iyz="1.0423E-07"
        izz="4.9835E-06" />
    </inertial>
    <visual>
      <origin
        xyz="0 0 0"
        rpy="0 0 0" />
      <geometry>
        <mesh
          filename="package://mobiman/urdf/R1/meshes/right_gripper_link2.STL" />
      </geometry>
      <material
        name="">
        <color
          rgba="0.82353 0.82353 1 1" />
      </material>
    </visual>
    <collision>
      <origin
        xyz="0 0 0"
        rpy="0 0 0" />
      <geometry>
        <mesh
          filename="package://mobiman/urdf/R1/meshes/right_gripper_link2.STL" />
      </geometry>
    </collision>
  </link>
  <joint
    name="right_gripper_axis2"
    type="prismatic">
    <origin
      xyz="0.00076746 -0.00864 0.12641"
      rpy="-0.78541 -1.5708 2.3562" />
    <parent
      link="right_arm_link6" />
    <child
      link="right_gripper_link2" />
    <axis
      xyz="0 0 1" />
    <limit
      lower="0"
      upper="0.03"
      effort="100"
      velocity="0.25" />
  </joint>
</robot>
